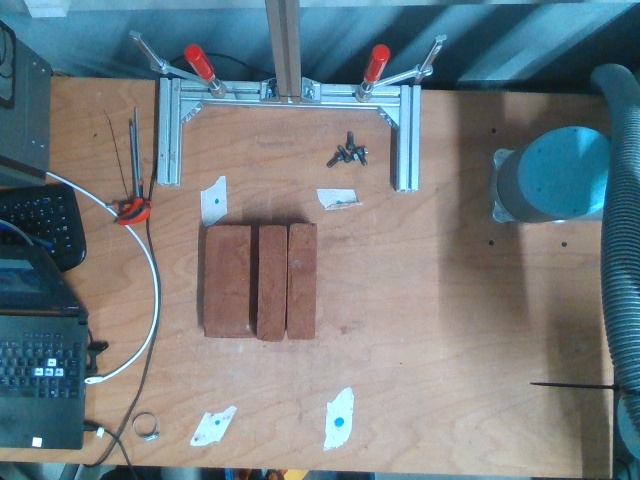brick: (201, 226, 256, 337)
brick-side: (287, 224, 317, 338), (260, 225, 286, 339)
